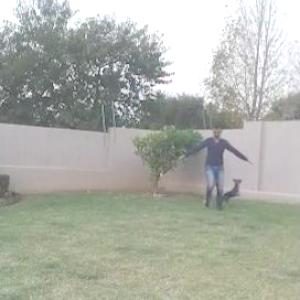land: (167, 120, 247, 216)
